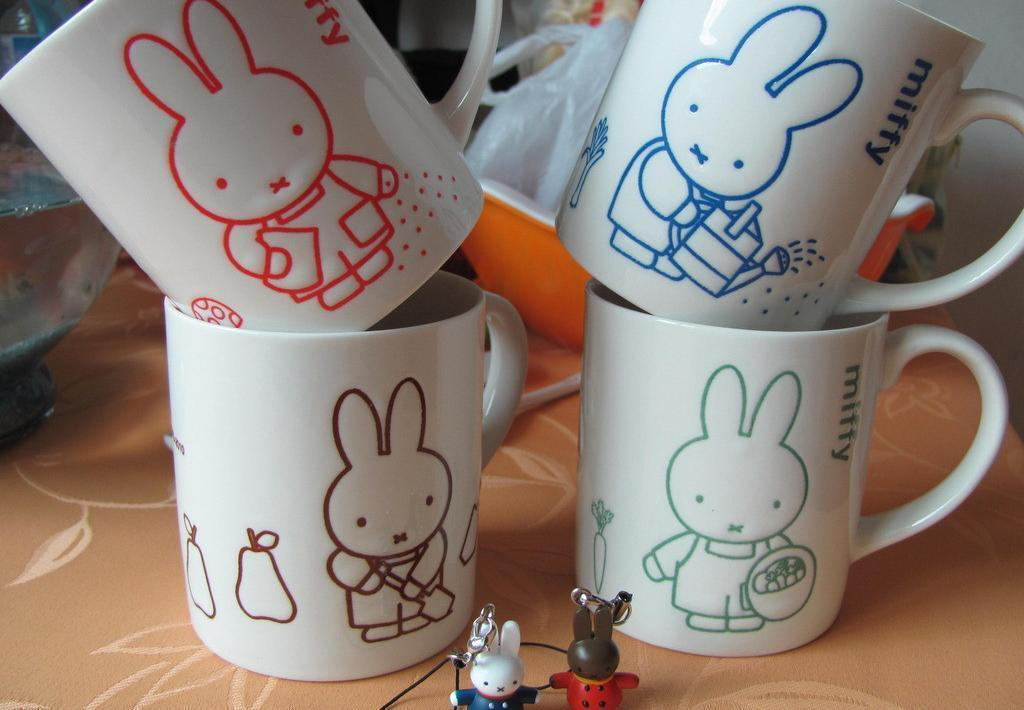cup: (570, 268, 1008, 660), (543, 1, 1024, 327), (162, 263, 528, 681)
